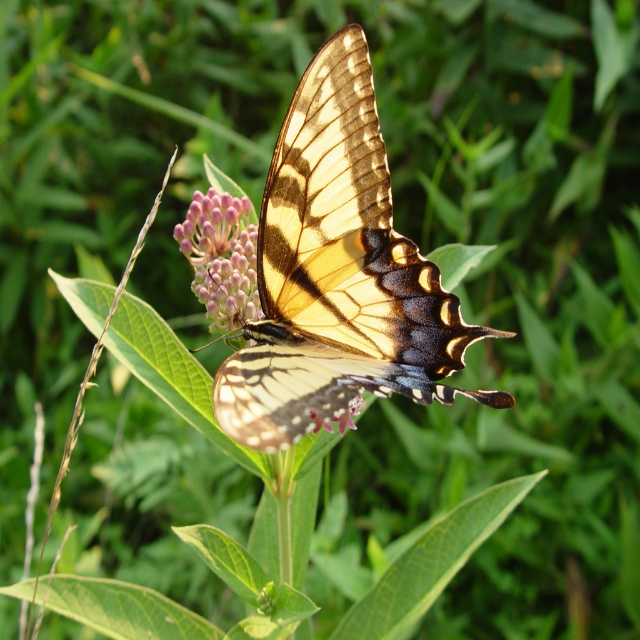Butterfly: (190, 23, 517, 453)
